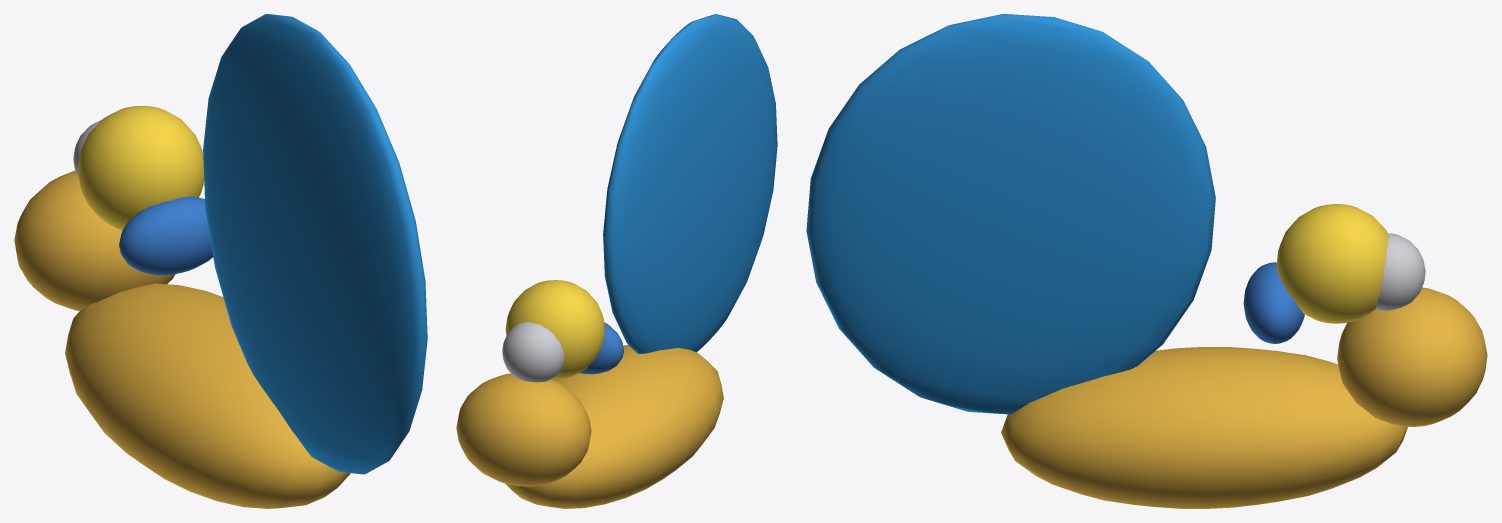
Rendered from warp_prism.glb.
3 views of the same model, side by side, from view 1: azimuth 30°, elevation 25°; view 2: azimuth 150°, elevation 25°; view 3: azimuth 270°, elevation 25° (orthographic). The views are drawn at different scales.
Visible parts, largest first — view 1: wp_sail.001, wp_hull.001, wp_helm.001, wp_bow.001, wp_scarf.001; view 2: wp_sail.001, wp_hull.001, wp_bow.001, wp_helm.001, wp_face.001, wp_scarf.001; view 3: wp_sail.001, wp_hull.001, wp_bow.001, wp_helm.001, wp_scarf.001, wp_face.001.
Part boxes in pixels (box(x1,y1,x2,y2)): wp_sail.001: box(203, 14, 427, 474); wp_hull.001: box(65, 283, 350, 508); wp_helm.001: box(77, 106, 204, 230); wp_bow.001: box(14, 170, 175, 311); wp_scarf.001: box(119, 196, 213, 275); wp_sail.001: box(603, 14, 777, 353); wp_hull.001: box(505, 345, 723, 508); wp_bow.001: box(456, 373, 591, 486); wp_helm.001: box(505, 280, 605, 378); wp_face.001: box(502, 322, 564, 382); wp_scarf.001: box(579, 322, 623, 374); wp_sail.001: box(806, 14, 1215, 414); wp_hull.001: box(1001, 347, 1407, 508); wp_bow.001: box(1337, 287, 1487, 426); wp_helm.001: box(1276, 204, 1388, 323); wp_scarf.001: box(1243, 262, 1304, 343); wp_face.001: box(1375, 233, 1425, 310).
Bounding box in the file's own units: 0.408 × 1.02 × 1.3.
